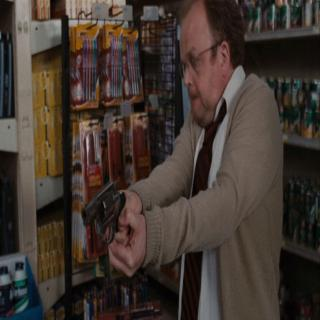gun: (80, 174, 139, 266)
